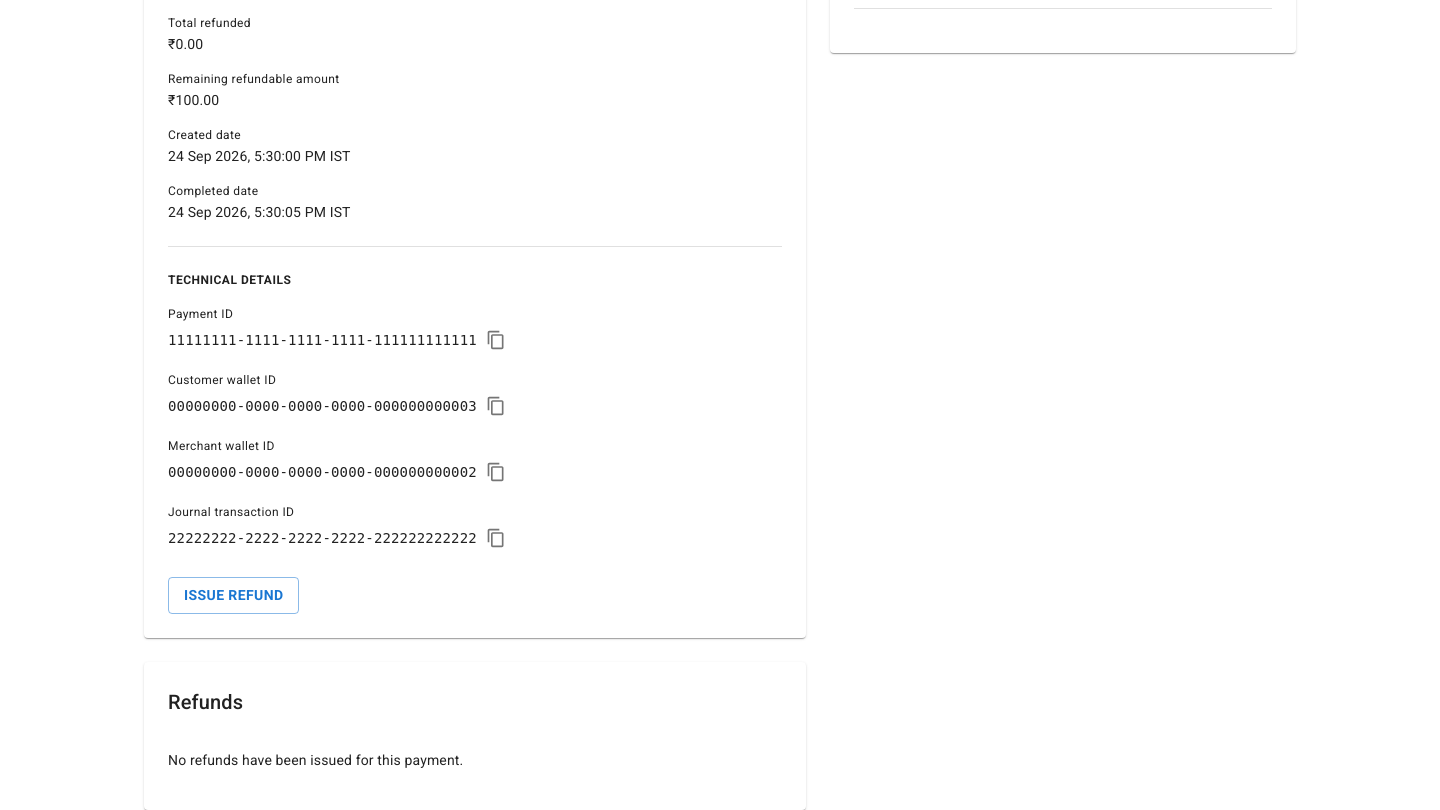
Scenario: Merchant Experience Frontend Components › PaymentDetailPage Refund Flow › opens refund confirmation dialog with correct calculated amount
(page scrolled)
Click the button "Issue refund" at x=234, y=595, box [168, 577, 300, 614]
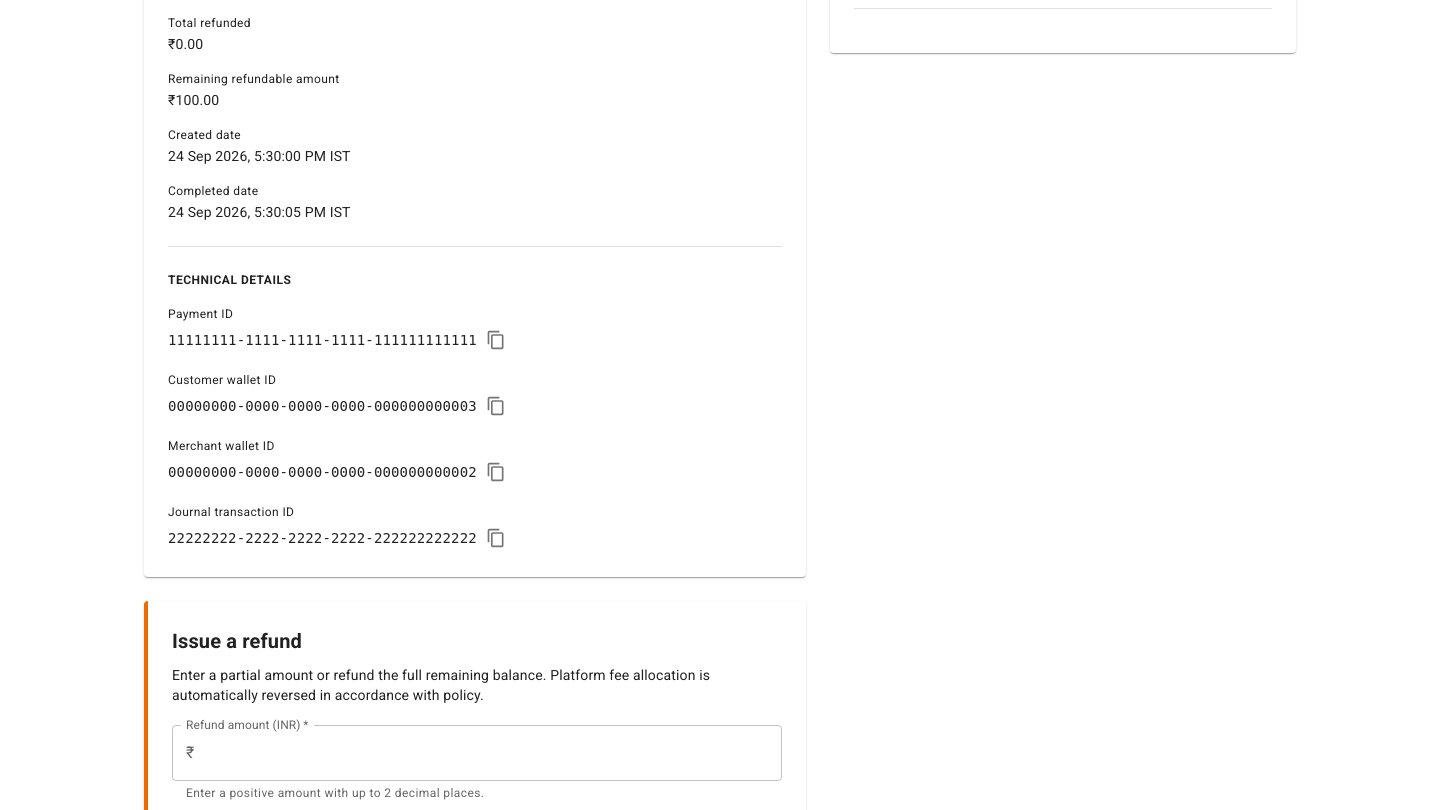
Type "25.00" into the field labelled "Refund amount (INR) *" at x=492, y=753, box [202, 725, 782, 781]
(page scrolled)
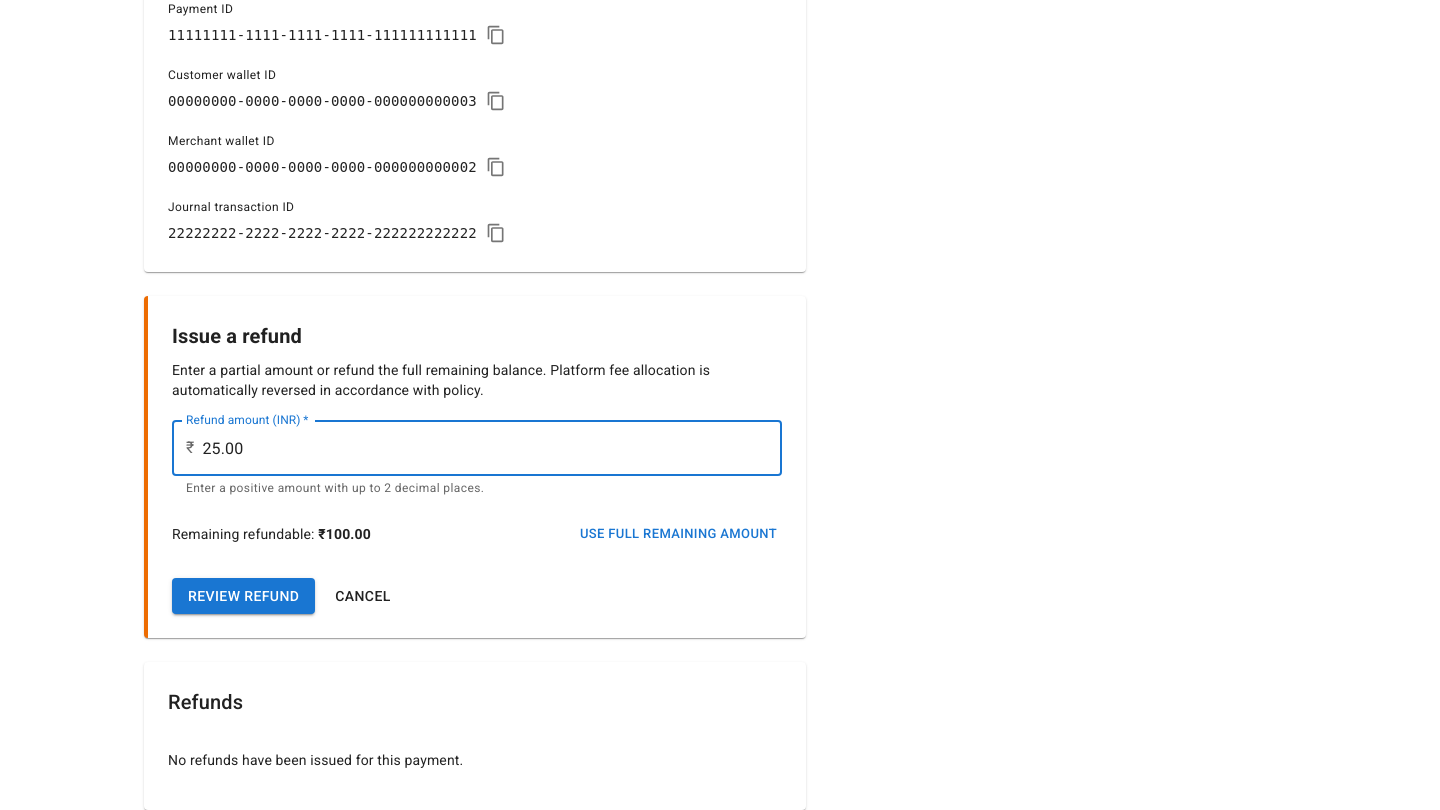
Click the button "Review refund" at x=244, y=596, box [172, 578, 315, 614]
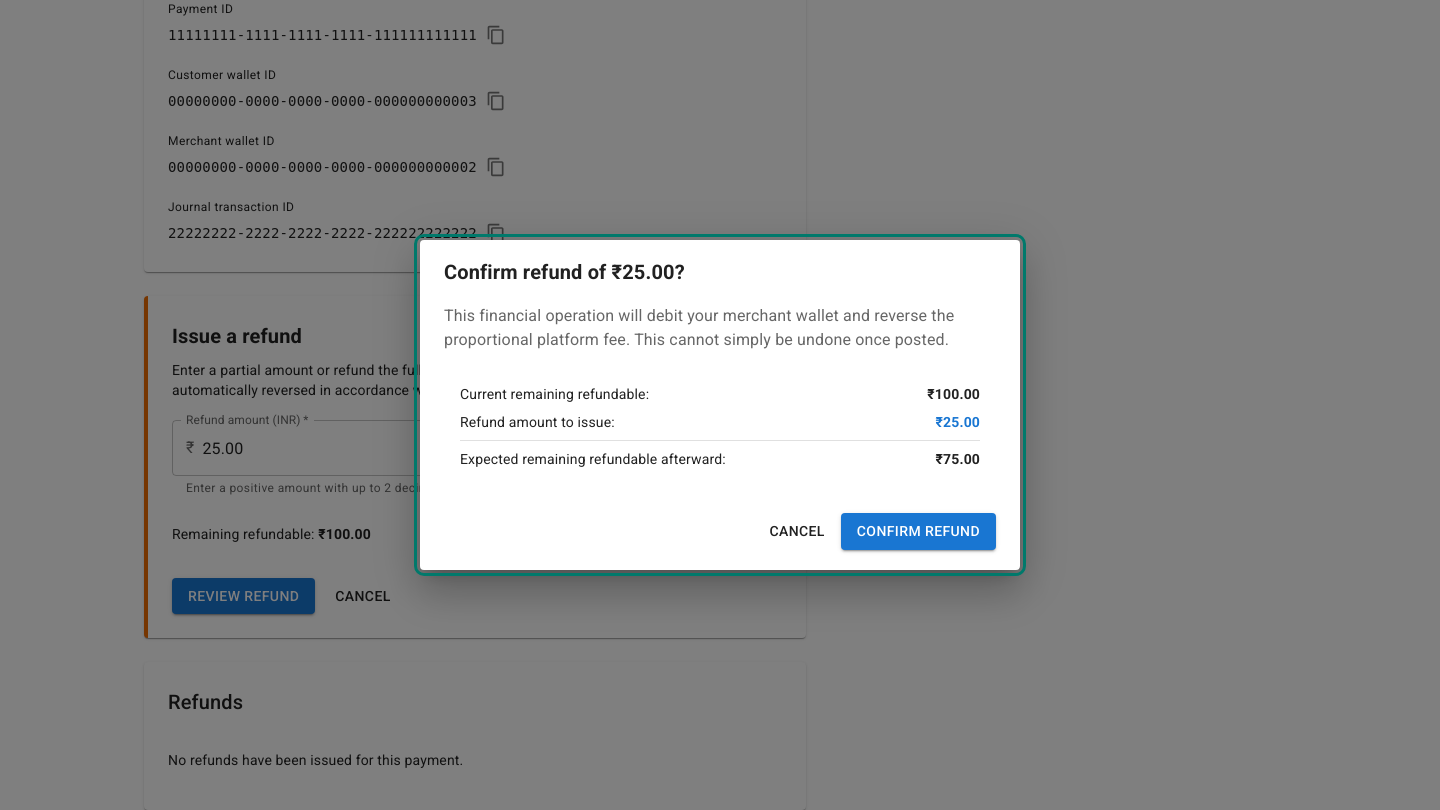
Check: the dialog is shown, box [420, 240, 1020, 570]
Check: the heading "Confirm refund of ₹25.00?" is shown, box [444, 260, 685, 284]
